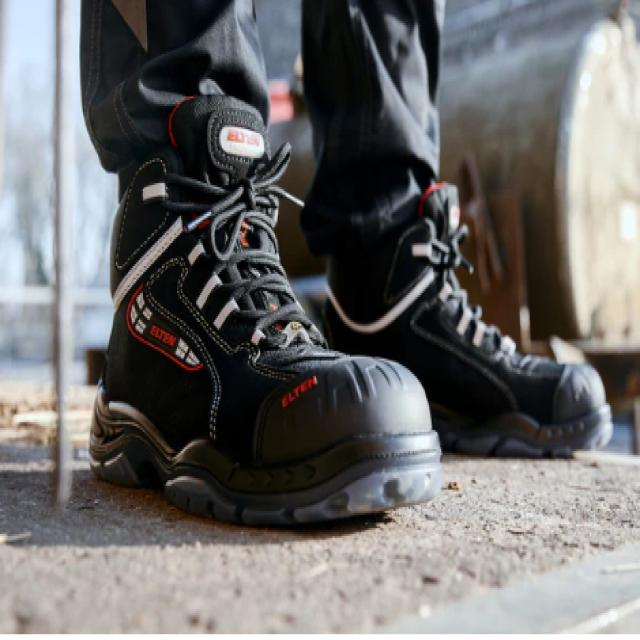boots: (82, 95, 619, 532)
